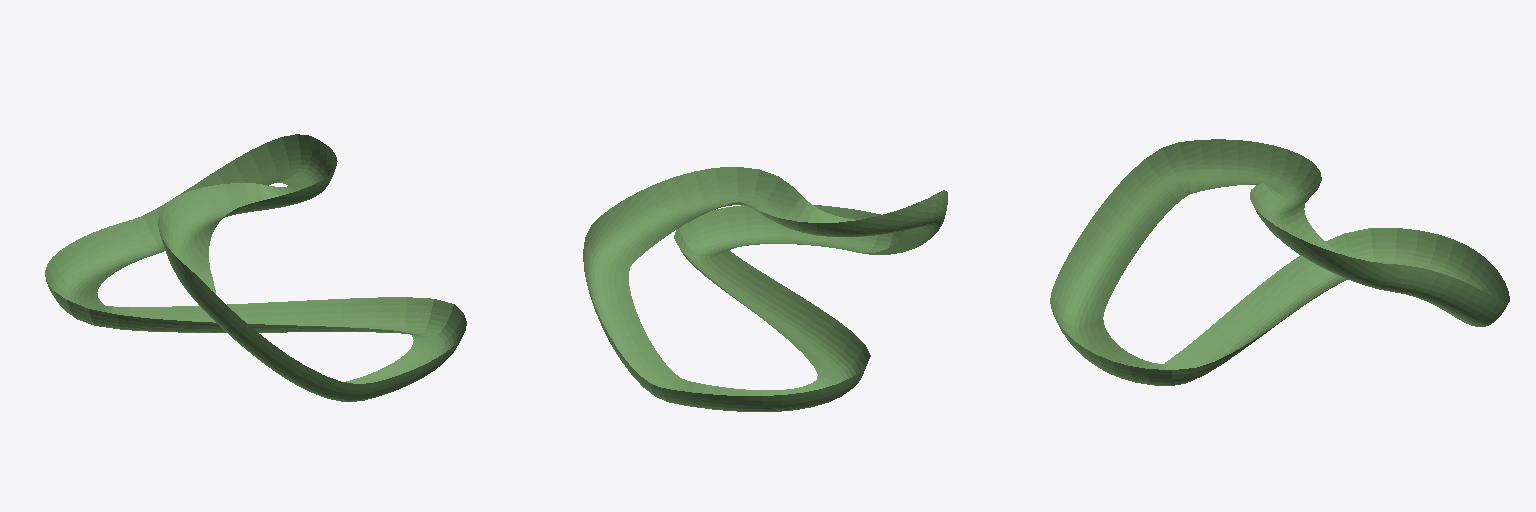
Rendered from figure8.obj.
The picture shows the model from 3 angles: view 1: azimuth 30°, elevation 25°; view 2: azimuth 150°, elevation 25°; view 3: azimuth 270°, elevation 25°; orthographic projection.
Visible parts, largest first — view 1: TrackCurve_BezierCurve; view 2: TrackCurve_BezierCurve; view 3: TrackCurve_BezierCurve.
Boxes of the visible parts, <box> form: TrackCurve_BezierCurve: <box>45,134,466,401</box>; TrackCurve_BezierCurve: <box>583,167,947,411</box>; TrackCurve_BezierCurve: <box>1050,139,1509,385</box>.
Bounding box in the file's own units: 11.74 × 5.41 × 16.2.